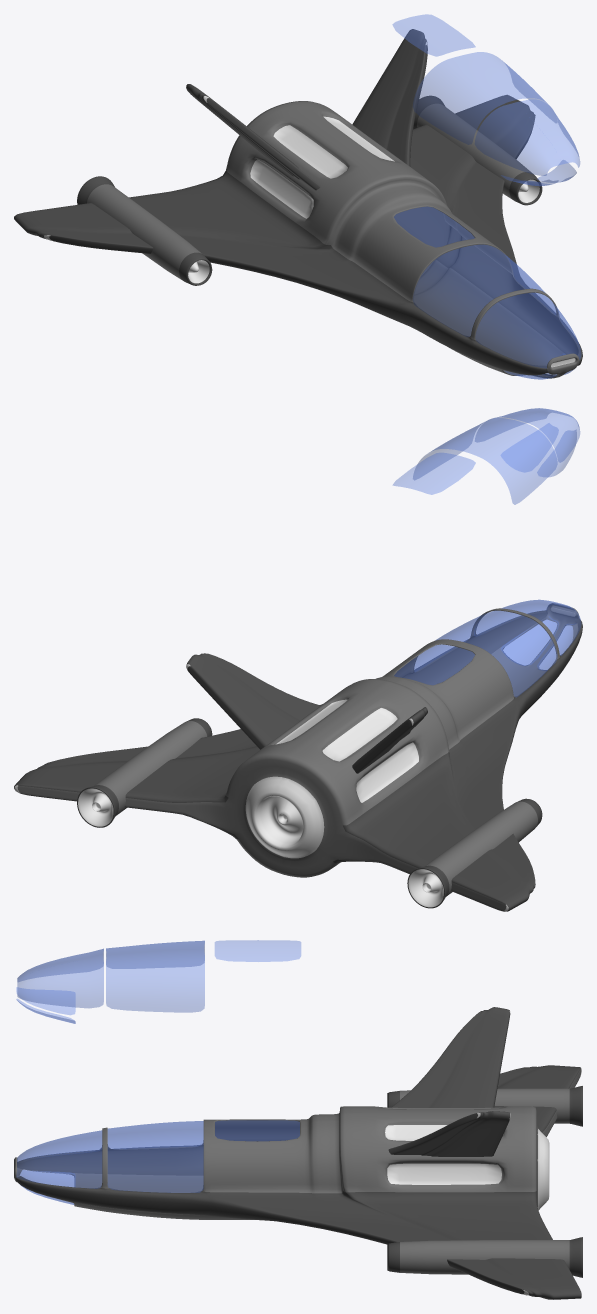
File: NebulonX - 001Tex.fbx
The picture shows the model from 3 angles, top to bottom: view 1: azimuth 30°, elevation 25°; view 2: azimuth 150°, elevation 25°; view 3: azimuth 270°, elevation 25°; orthographic projection. The views are drawn at different scales.
Visible parts, largest first — view 1: Schiff, Cockpit, Glass; view 2: Schiff, Cockpit, Glass; view 3: Schiff, Cockpit, Glass.
Part boxes in pixels (x1,y1,x2,y2): Schiff: (14, 29, 582, 378); Cockpit: (413, 52, 581, 368); Glass: (392, 14, 576, 379); Schiff: (14, 603, 582, 911); Cockpit: (413, 408, 581, 697); Glass: (393, 423, 576, 684); Schiff: (14, 1007, 582, 1299); Cockpit: (16, 940, 204, 1192); Glass: (16, 940, 300, 1204).
Size of the model in its own units: 2313 by 2415 by 1302.
